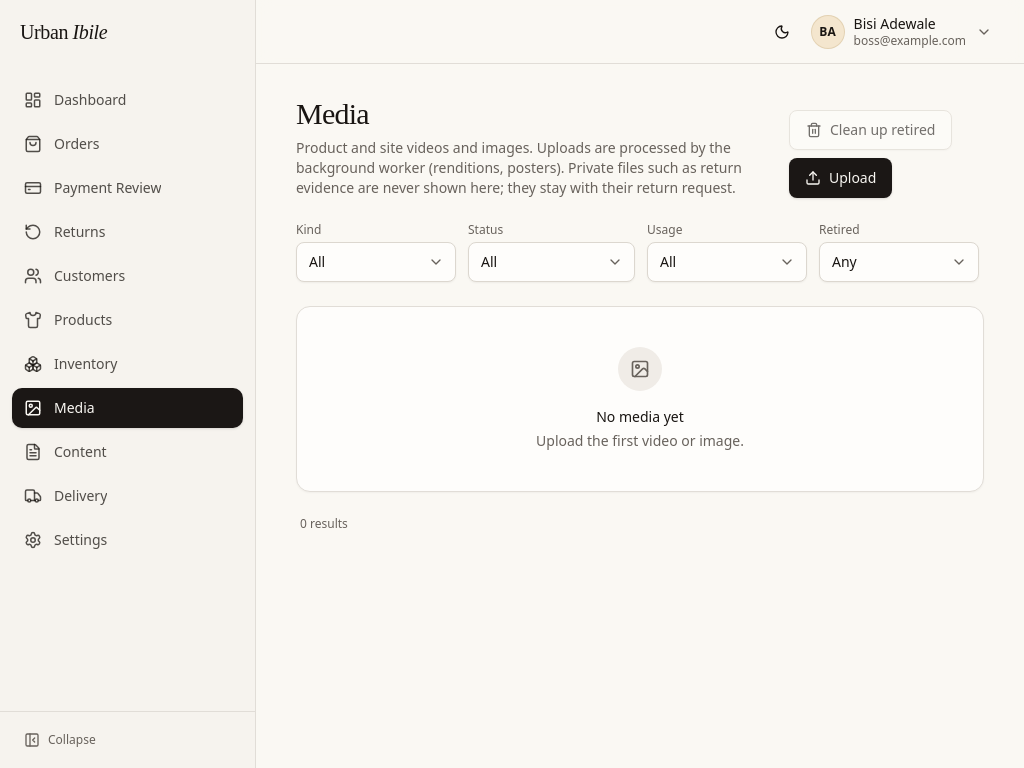
it: Upload dialog: limits and friendly errors › shows the real limits and the recommended settings
Step 1. Click the button "Upload" → (841, 178), box [789,158,892,198]
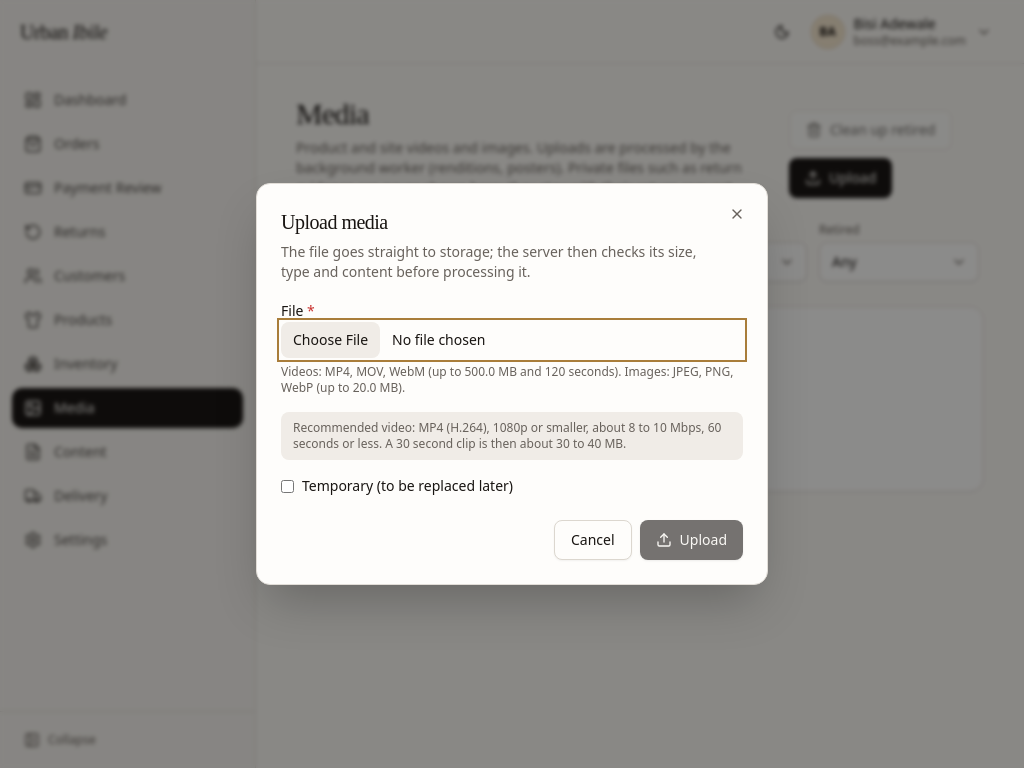
Result: the dialog "Upload media" shows "up to 500.0 MB and 120 seconds" at [281,363,733,396]
Result: the dialog "Upload media" shows "Images: JPEG, PNG, WebP (up to 20.0 MB)" at [281,363,733,396]
Result: the dialog "Upload media" shows "Recommended video: MP4 (H.264), 1080p or smaller, about 8 to 10 Mbps, 60 seconds or less." at [256,183,768,585]
